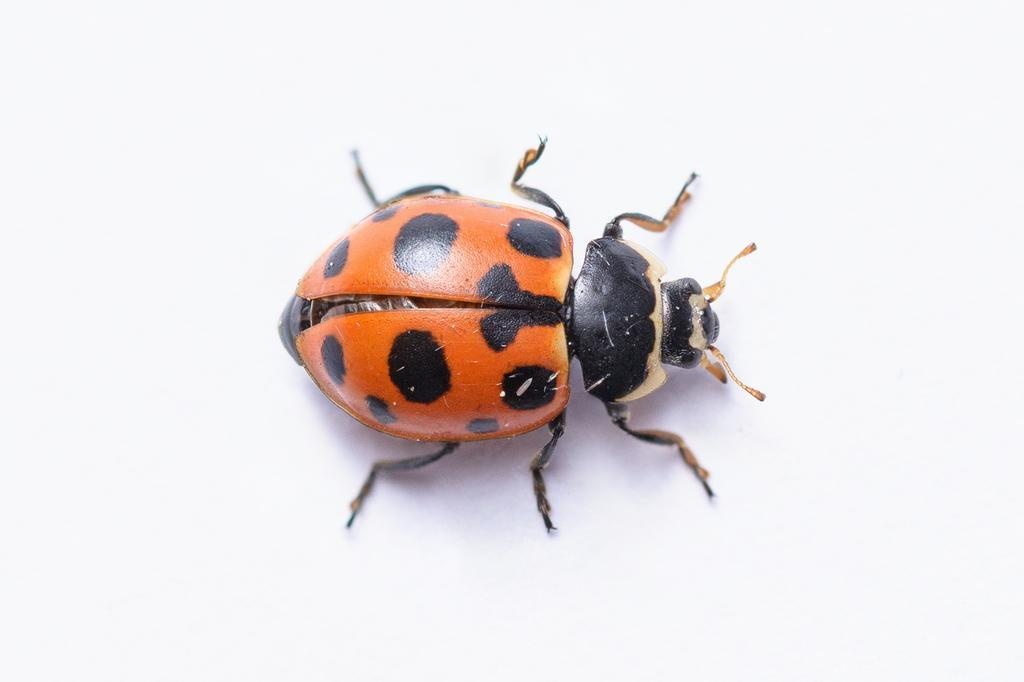ladybug: (277, 133, 771, 539)
